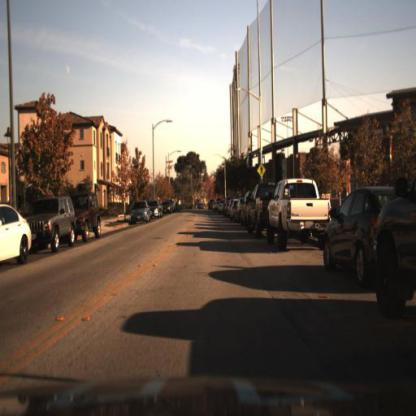car: (321, 185, 408, 285), (374, 173, 416, 326), (260, 173, 331, 258), (29, 188, 80, 264), (2, 204, 33, 270), (76, 190, 106, 248), (249, 182, 268, 235), (128, 198, 154, 232), (150, 195, 162, 225)
